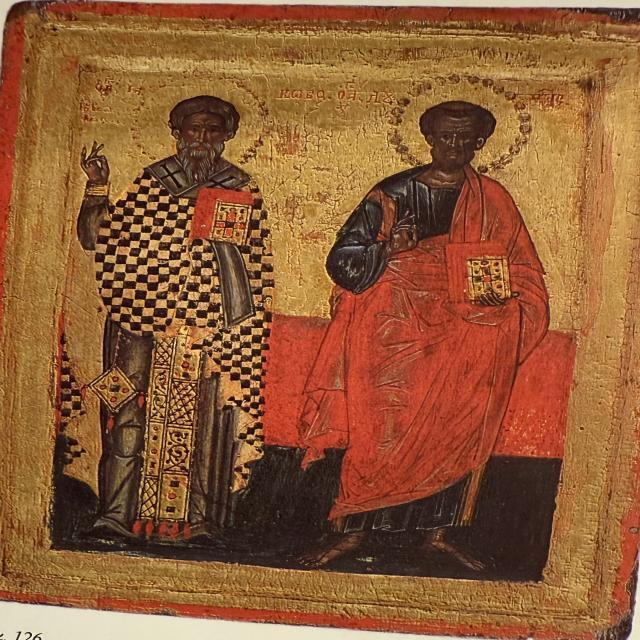aura: (389, 72, 536, 172), (133, 78, 265, 164)
book: (187, 184, 265, 252), (443, 240, 516, 308)
christ_hand: (76, 139, 113, 185)
saint: (305, 74, 565, 569), (64, 58, 282, 552)
